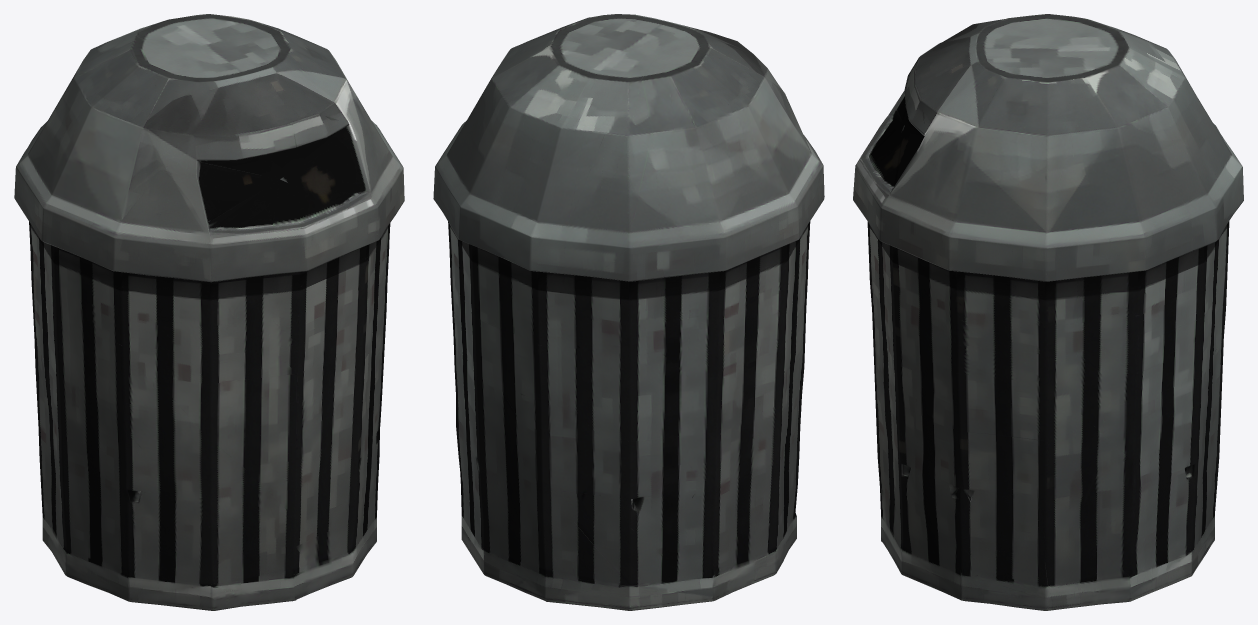
File: PROP_TRASHCAN.glb
3 views of the same model, side by side, from view 1: azimuth 30°, elevation 25°; view 2: azimuth 150°, elevation 25°; view 3: azimuth 270°, elevation 25° (orthographic).
Size of the model in its own units: 1.37 by 1.9 by 1.37.
1 material, 1 textured.
